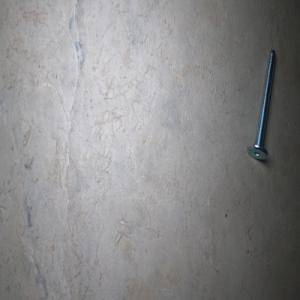Bolt: (246, 49, 275, 160)
